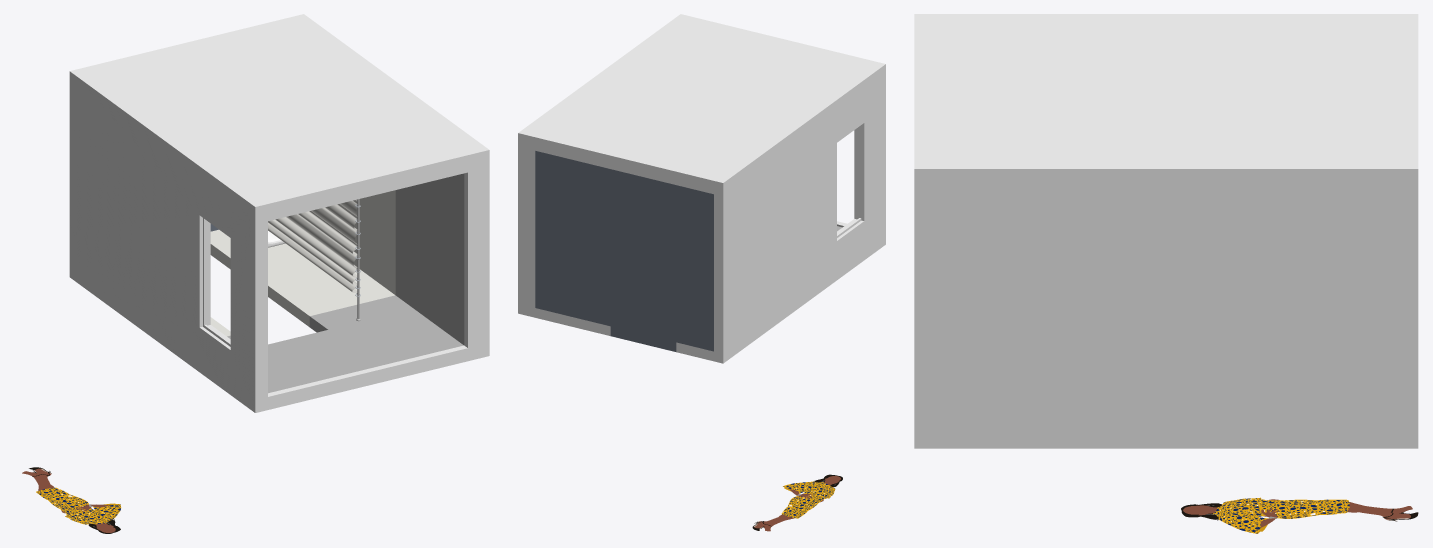
The picture shows the model from 3 angles, left to right: view 1: azimuth 30°, elevation 25°; view 2: azimuth 150°, elevation 25°; view 3: azimuth 270°, elevation 25°; orthographic projection. The views are drawn at different scales.
Visible parts, largest first — view 1: IRP_walls, Group15, EXCLUDED_Sumele, IRP_window; view 2: IRP_walls, IRP_floor, EXCLUDED_Sumele; view 3: IRP_walls, EXCLUDED_Sumele.
Boxes of the visible parts, x1=… form: IRP_walls: x1=69, y1=14, x2=489, y2=412; Group15: x1=268, y1=199, x2=357, y2=292; EXCLUDED_Sumele: x1=22, y1=467, x2=121, y2=533; IRP_window: x1=203, y1=218, x2=230, y2=346; IRP_walls: x1=518, y1=14, x2=885, y2=363; IRP_floor: x1=535, y1=151, x2=713, y2=351; EXCLUDED_Sumele: x1=752, y1=474, x2=842, y2=531; IRP_walls: x1=914, y1=14, x2=1418, y2=448; EXCLUDED_Sumele: x1=1181, y1=497, x2=1418, y2=533.
Bounding box in the file's own units: 3235 × 4028 × 3501.
